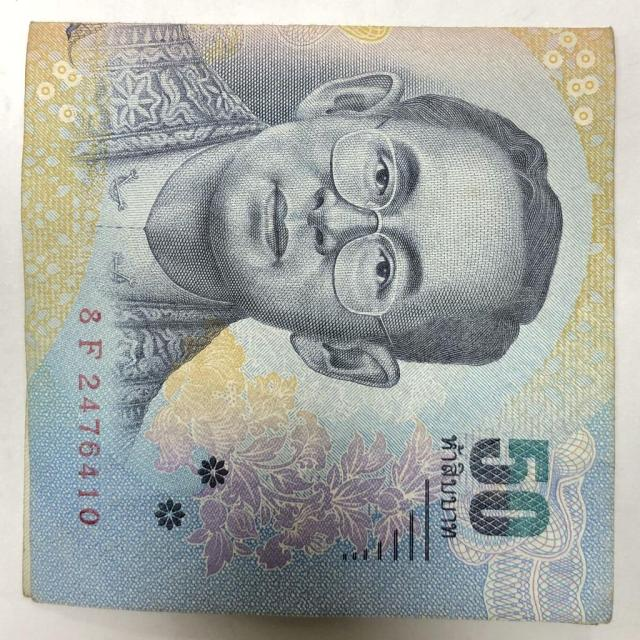THAI50: (21, 21, 626, 626)
